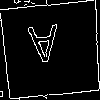A: (26, 24, 61, 73)
